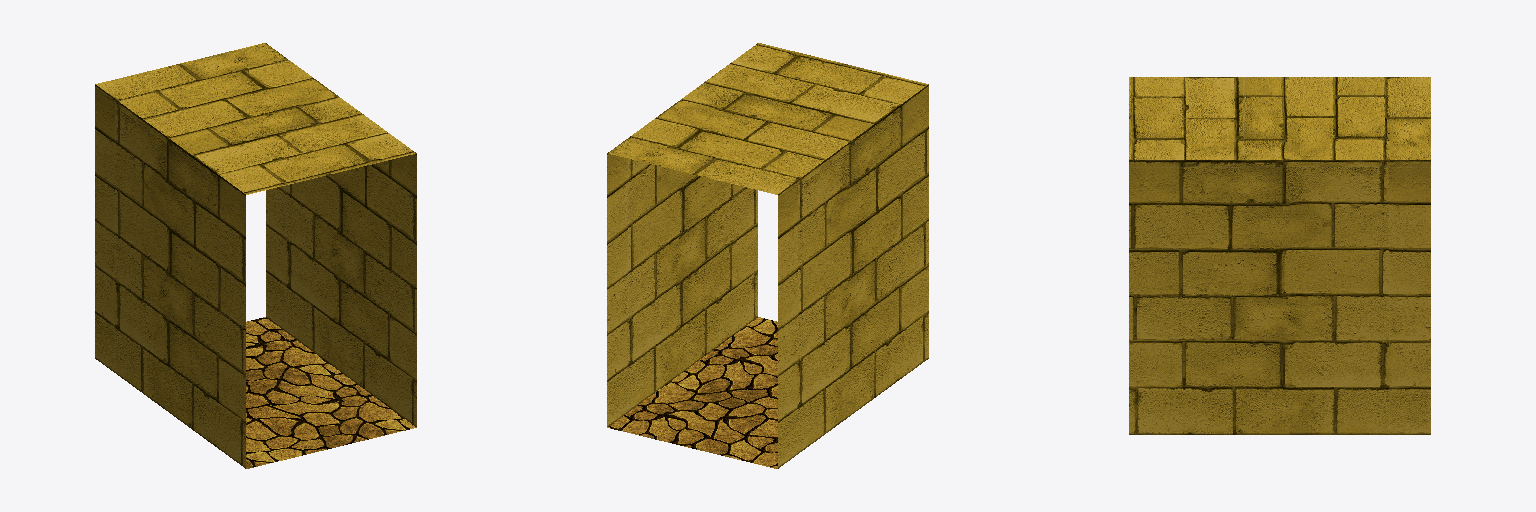
3 views of the same model, side by side, from view 1: azimuth 30°, elevation 25°; view 2: azimuth 150°, elevation 25°; view 3: azimuth 270°, elevation 25° (orthographic).
Parts seen in each view (by area): view 1: brick_port_coridor_x2; view 2: brick_port_coridor_x2; view 3: brick_port_coridor_x2.
Boxes of the visible parts, <box> form: brick_port_coridor_x2: <box>95,43,416,468</box>; brick_port_coridor_x2: <box>607,43,928,468</box>; brick_port_coridor_x2: <box>1129,77,1430,434</box>.
Size of the model in its own units: 130 by 200 by 200.
Materials: 2 (2 with a texture image).